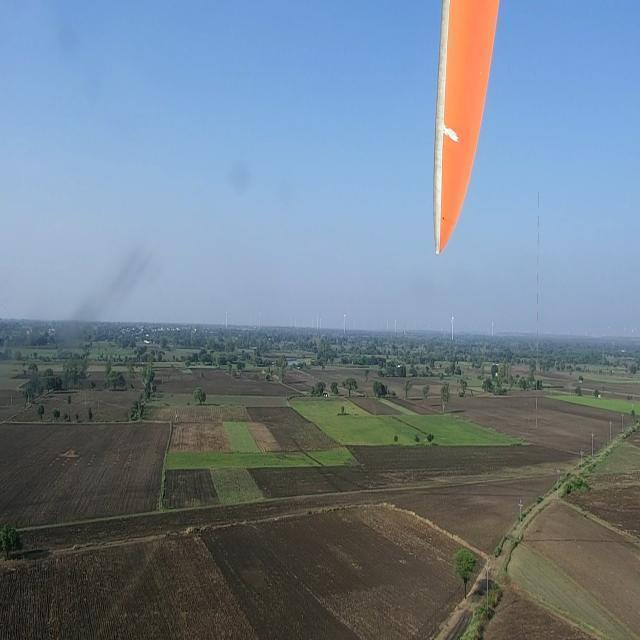PU-tape: (437, 113, 464, 156)
